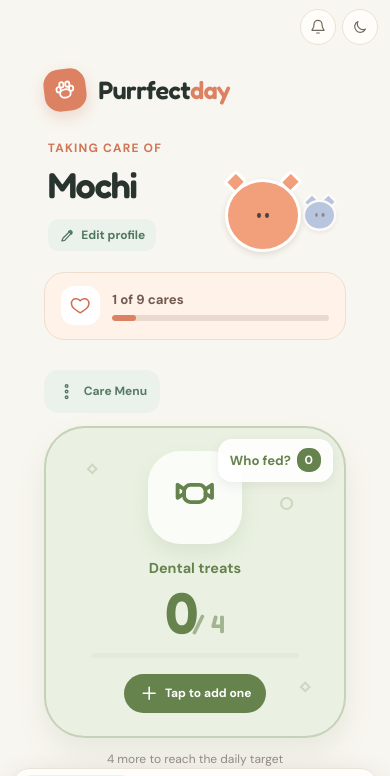
Test: tracking and family navigation › places poop and pee at the lower-right of the menu and tracks them as unmetered counters
This screenshot has width=390, height=776.
Click the button "Care Menu" at (102, 391), box [44,370,160,413]
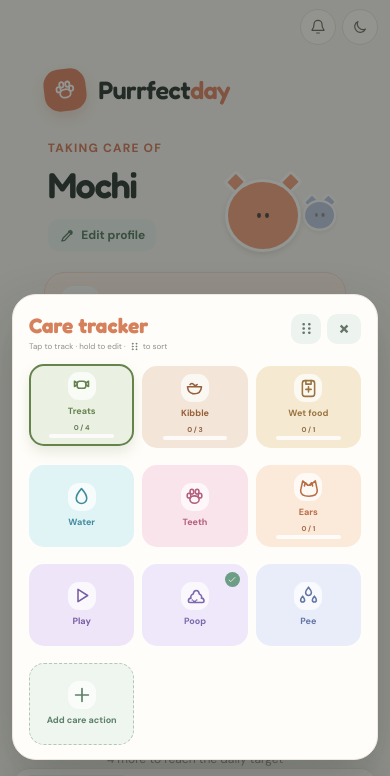
Click the button "Poop" at (195, 605), box [142,564,248,646]
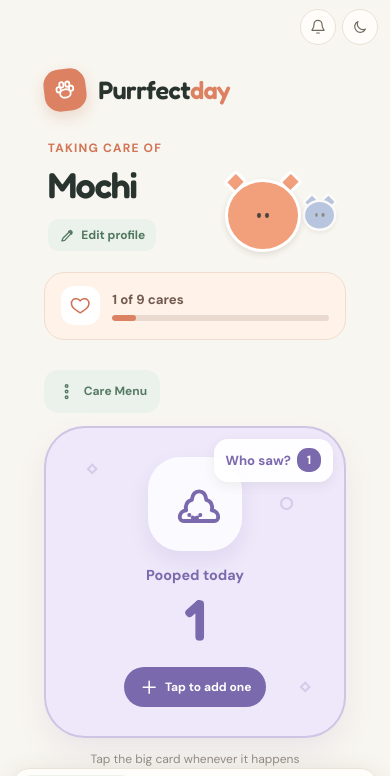
expect the element named "Pooped today tracker" is shown: met, box [44,426,346,738]
expect the text with class "big-count" reads "1": met, box [184,584,206,654]
Click the button "Tap to add one" at (195, 687), box [124,667,266,707]
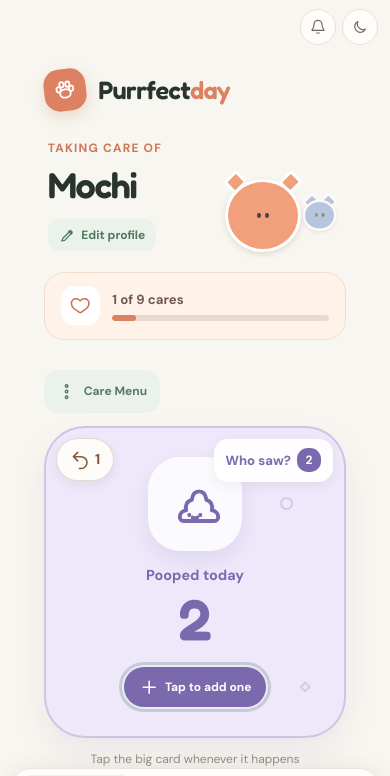
expect the text with class "big-count" reads "2": met, box [178,584,212,654]
expect the 1st text "2" is shown: met, box [297,448,321,472]
